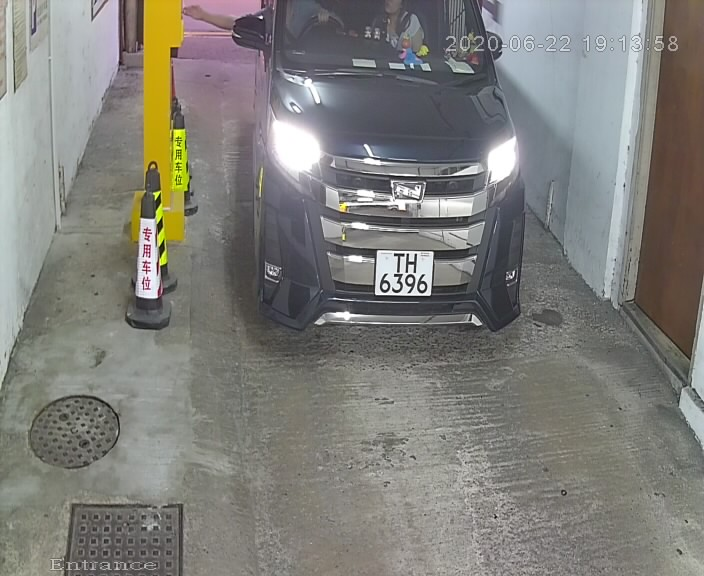privatecar: (224, 1, 538, 365)
